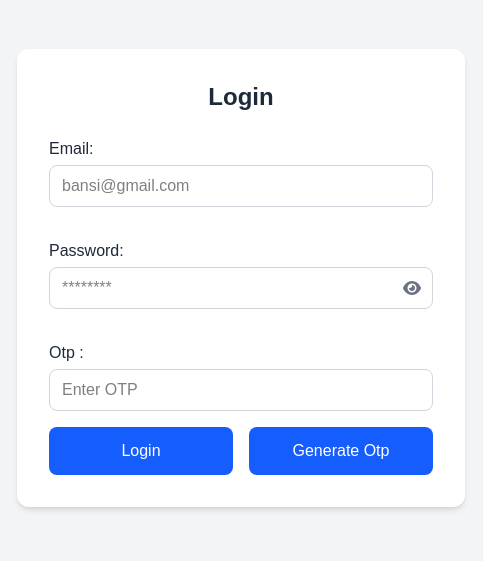
Test: Login Page TestIng › Empty Field Validation
Click the button "Login" at (141, 451), box x1=49 y1=427 x2=233 y2=475
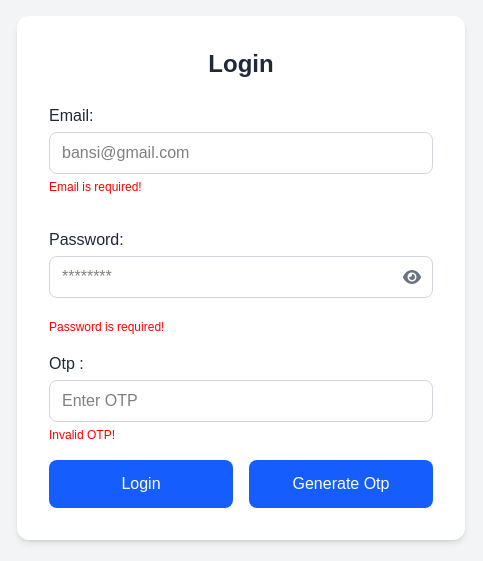
Expected: the text "Email is required!" is shown, x1=49 y1=180 x2=142 y2=194
Expected: the text "Password is required!" is shown, x1=49 y1=320 x2=164 y2=334
